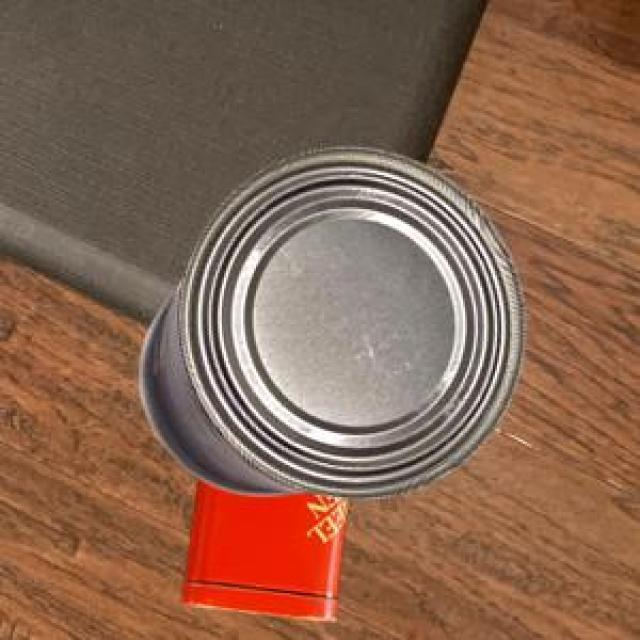Can: (138, 144, 522, 496), (178, 475, 345, 618)
